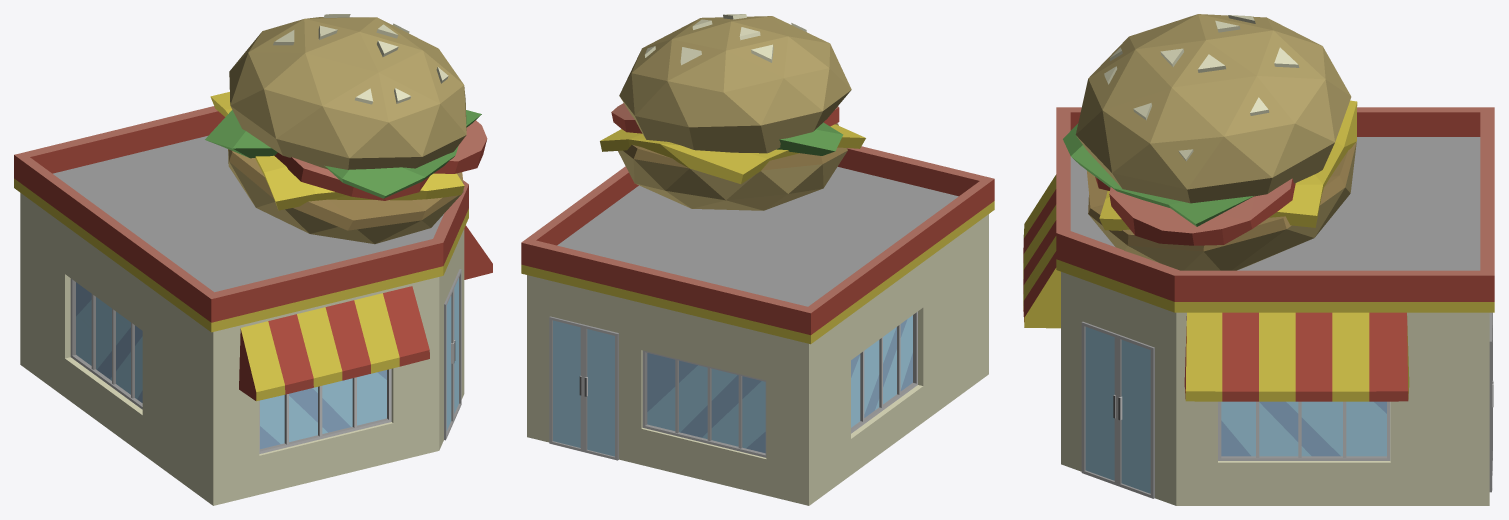
File: cafe_010.fbx
3 renders of one model, left to right at view 1: azimuth 30°, elevation 25°; view 2: azimuth 150°, elevation 25°; view 3: azimuth 270°, elevation 25°, orthographic. The views are drawn at different scales.
Parts seen in each view (by area): view 1: cafe_010; view 2: cafe_010; view 3: cafe_010.
Boxes of the visible parts, box(x1,y1,x2,y2) form: cafe_010: box(14, 14, 492, 505); cafe_010: box(521, 14, 994, 505); cafe_010: box(1023, 14, 1494, 505).
Bounding box in the file's own units: 582 × 615 × 627.
